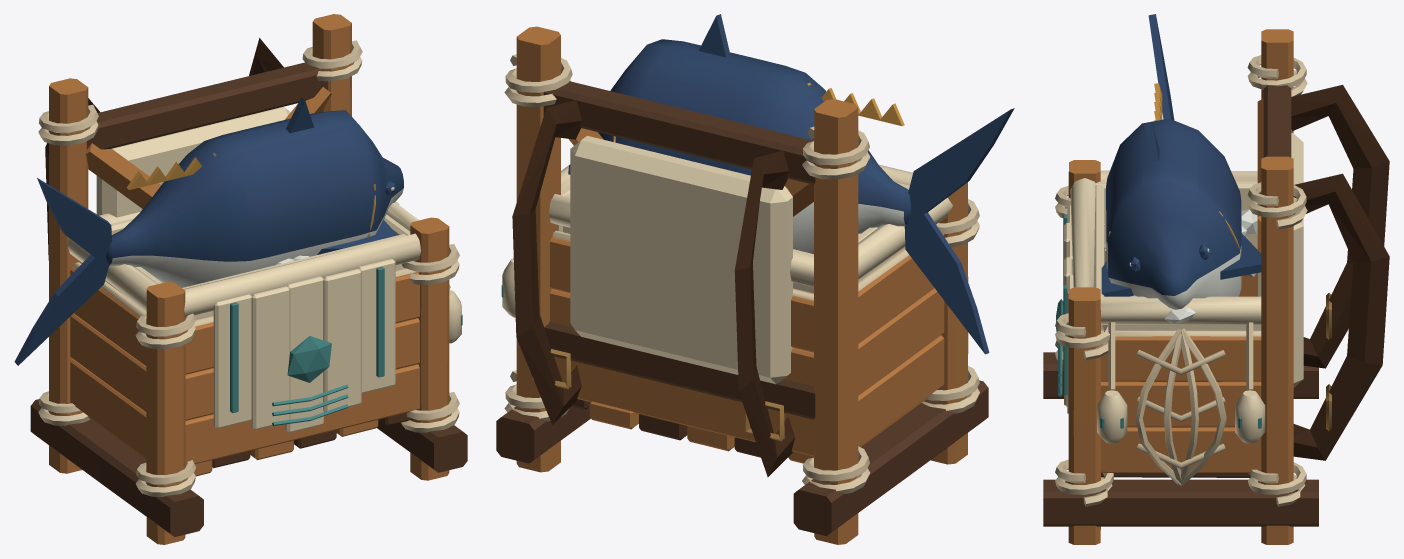
Rendered from prop_trade_pack_tuna_a.glb.
The picture shows the model from 3 angles, left to right: view 1: azimuth 30°, elevation 25°; view 2: azimuth 150°, elevation 25°; view 3: azimuth 270°, elevation 25°; orthographic projection. The views are drawn at different scales.
Visible parts, largest first — view 1: prop_trade_pack_tuna_a_LOD0; view 2: prop_trade_pack_tuna_a_LOD0; view 3: prop_trade_pack_tuna_a_LOD0.
Part boxes in pixels (<box>): prop_trade_pack_tuna_a_LOD0: <box>14,14,467,544</box>; prop_trade_pack_tuna_a_LOD0: <box>496,14,1014,544</box>; prop_trade_pack_tuna_a_LOD0: <box>1043,14,1389,544</box>.
Size of what is drawn, in the model's own units: 1.06 by 0.96 by 0.8041.
